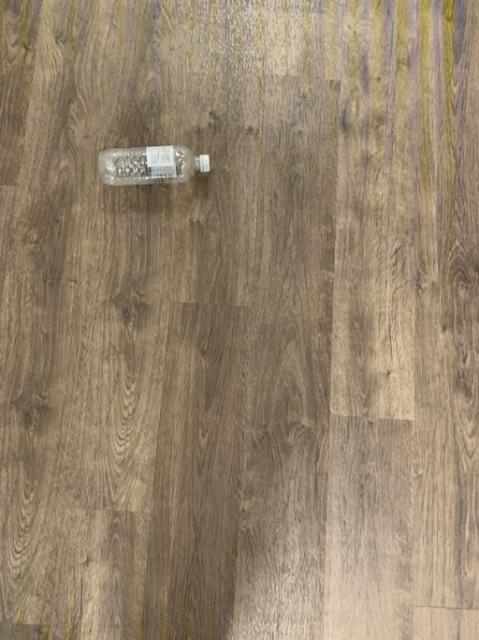plastic: (97, 144, 208, 184)
